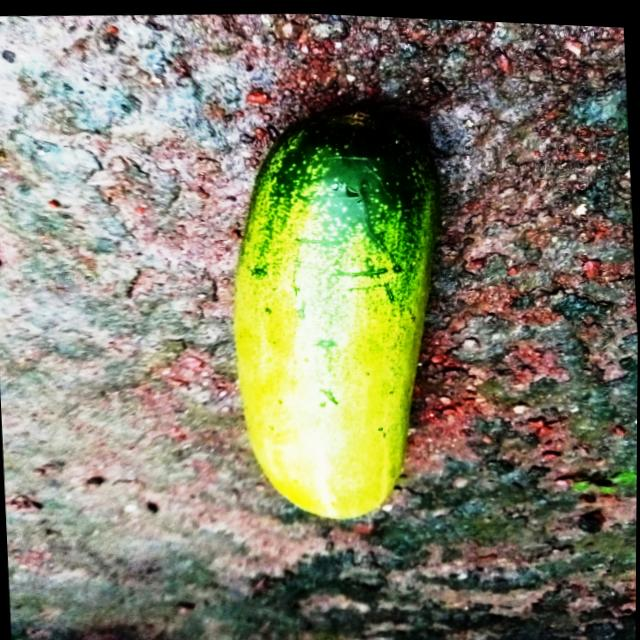Fresh-Cucumber: (219, 100, 453, 530)
